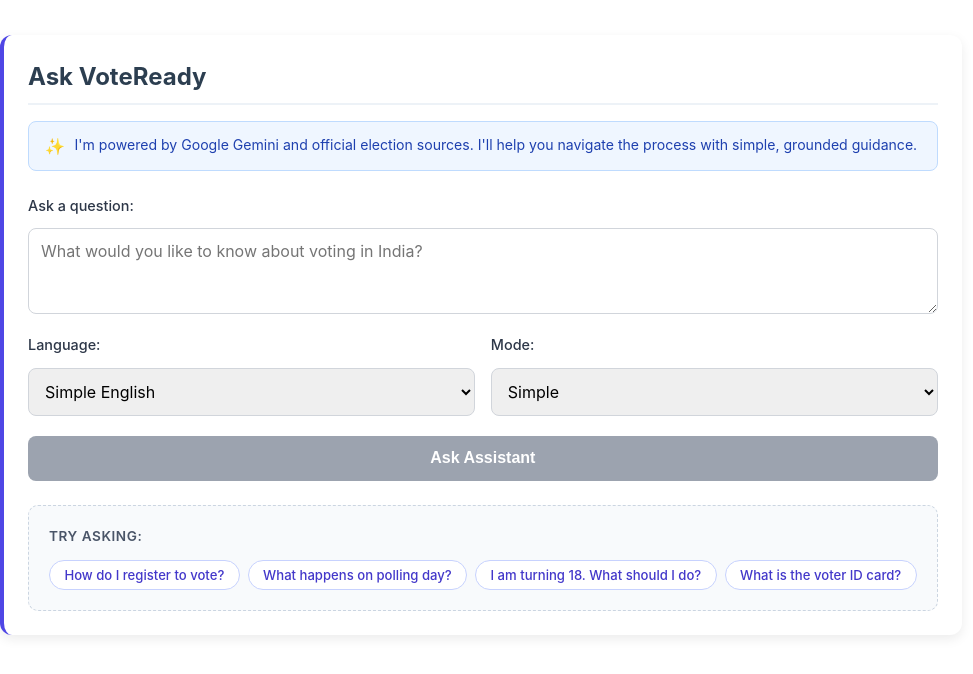
Test: AssistantShell › shows input intent hint when typing an eligibility question
In the text box labelled "Ask a question:": {"x": 483, "y": 271} [28,228,938,314], type "Am I eligible to vote?"
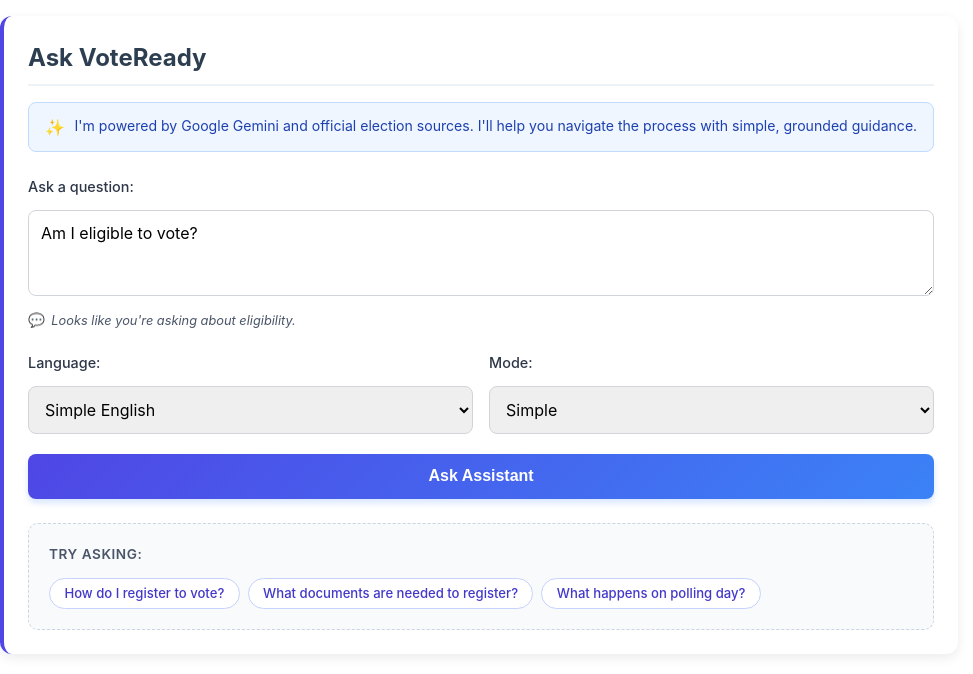
expect the text "💬 Looks like you're asking about eligibility." is shown: met, box [28,312,296,328]
